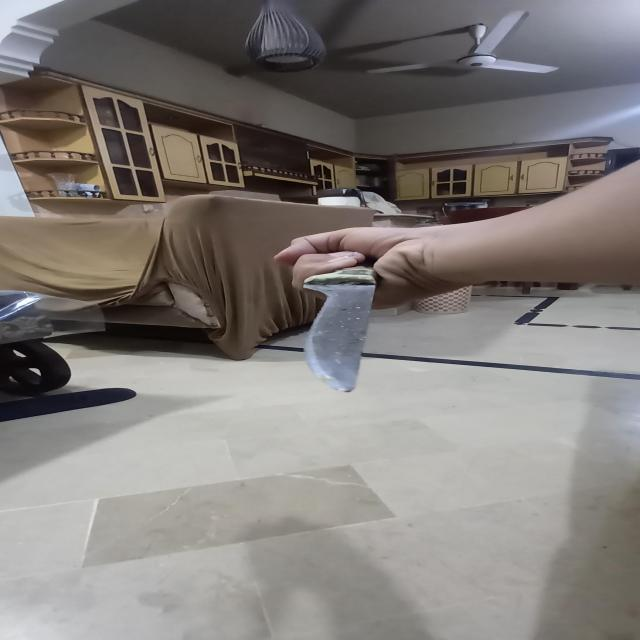Knife: (295, 259, 391, 394)
Person: (277, 159, 640, 312)
